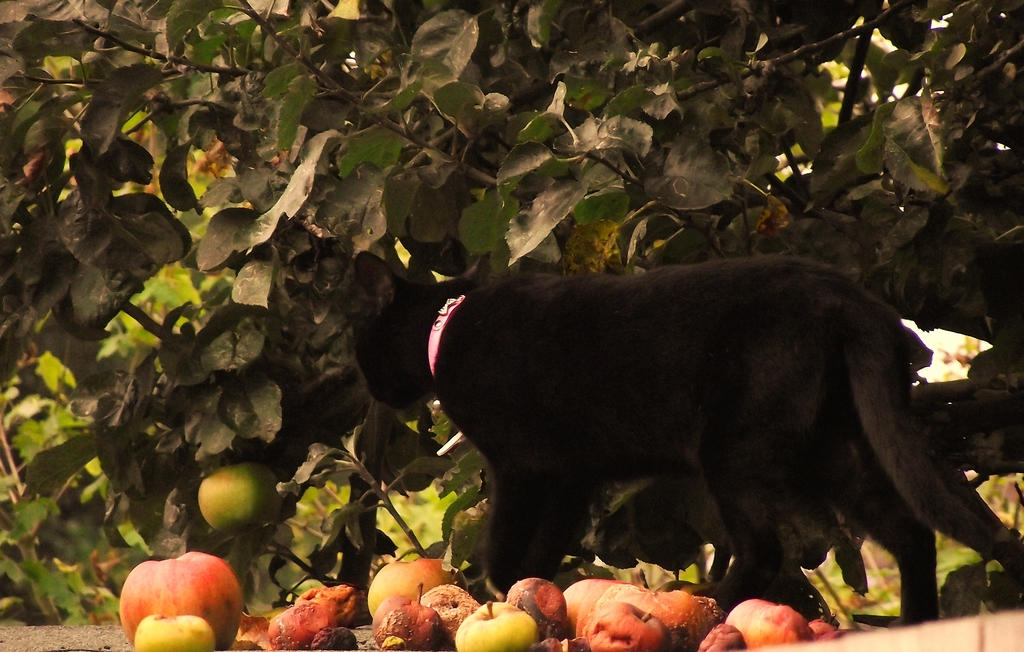Apple: (131, 552, 834, 651), (124, 554, 243, 643), (197, 463, 283, 532)
